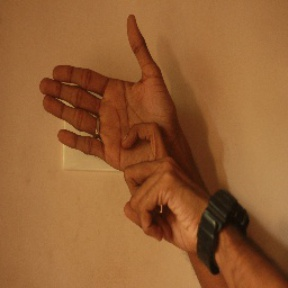R: (36, 12, 196, 213)
